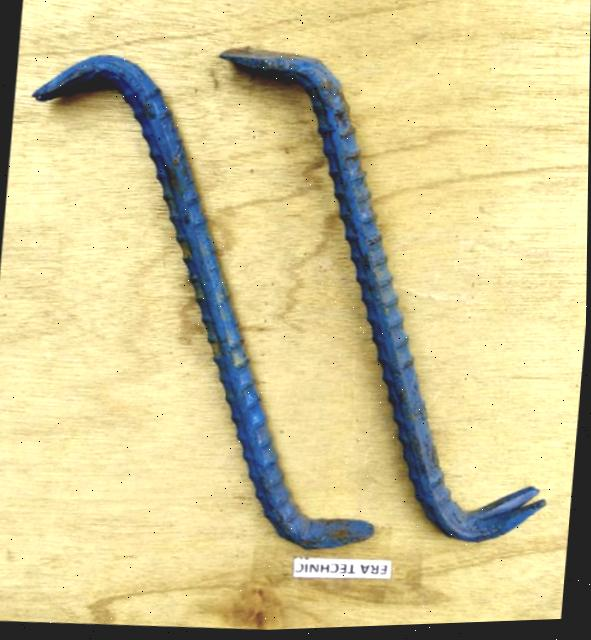crow bar: (0, 33, 422, 577), (168, 28, 583, 570)
